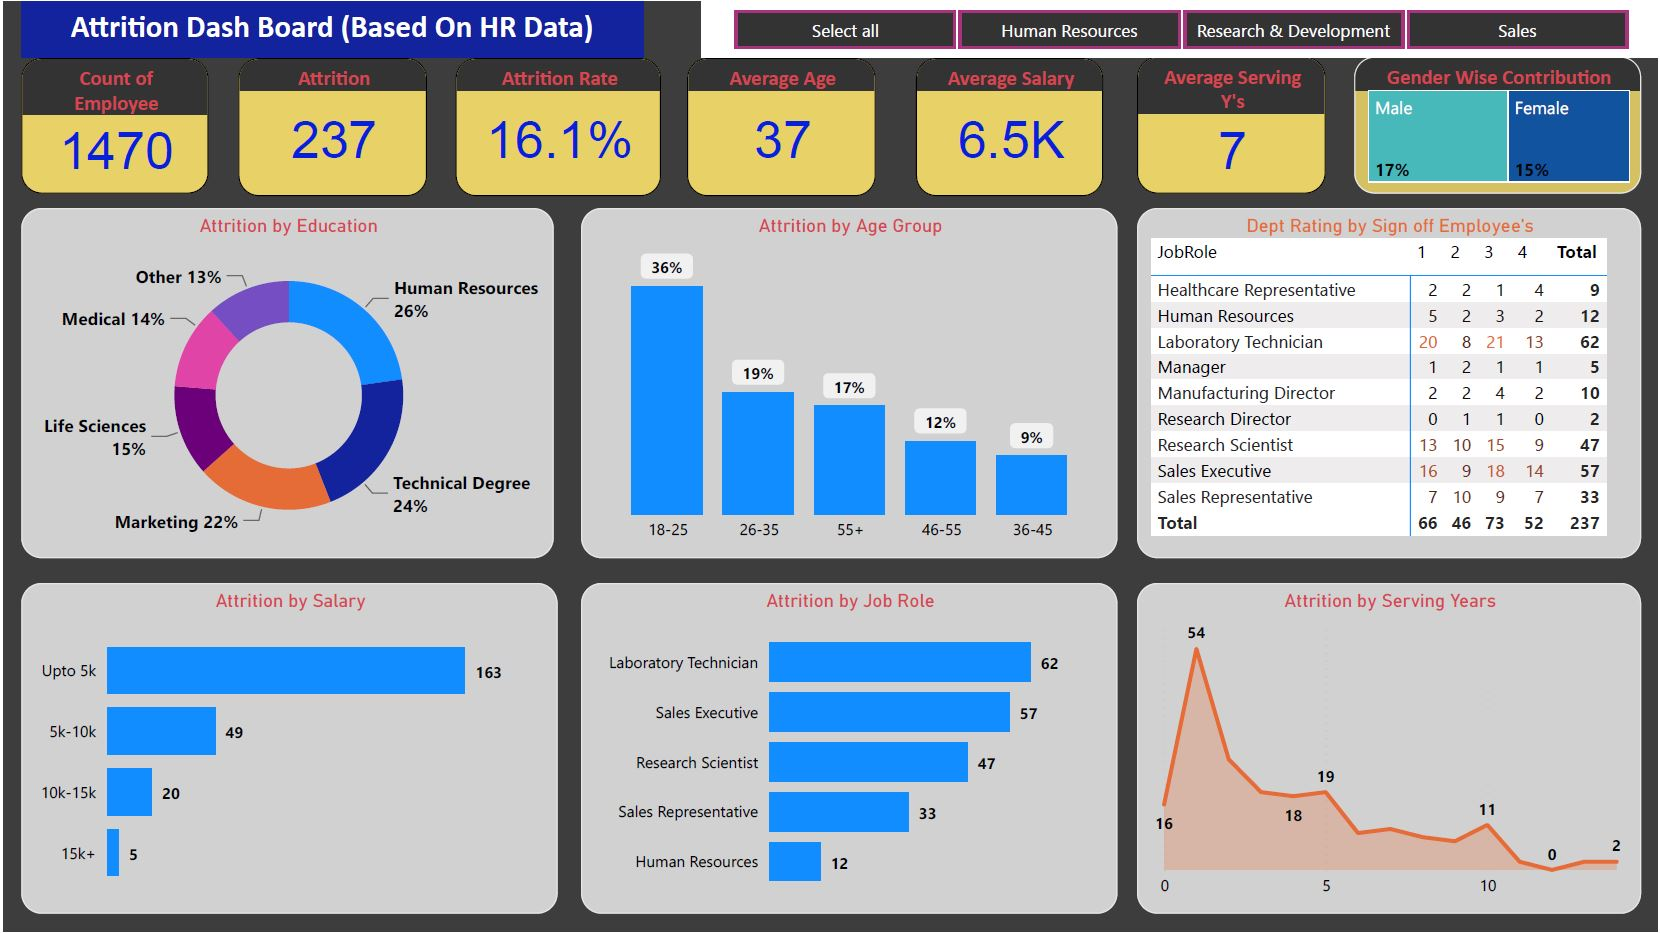

This screenshot's page, from the dashboard's own definition file:
{"tool":"powerbi","page":{"name":"Page 1","canvas":[1280,720],"ordinal":0},"visuals":[{"type":"card","title":"Count of Employee","fields":{"Values":["CountNonNull(HR_Analytics.EmpID)"]},"box":[13.7,43.9,145.3,105.6],"z":0},{"type":"card","title":"Attrition","fields":{"Values":["Sum(HR_Analytics.Attrition Count)"]},"box":[182.3,43.9,145.3,106.9],"z":1000},{"type":"card","title":"Attrition Rate","fields":{"Values":["HR_Analytics.Attritionrate"]},"box":[349.6,43.9,159,106.9],"z":2000},{"type":"card","title":"Average Age","fields":{"Values":["Avg(HR_Analytics.Age)"]},"box":[529.2,43.9,145.3,106.9],"z":3000},{"type":"card","title":"Average Salary","fields":{"Values":["Avg(HR_Analytics.MonthlyIncome)"]},"box":[706.1,43.9,145.3,106.9],"z":4000},{"type":"card","title":"Average Serving Y''s","fields":{"Values":["Avg(HR_Analytics.YearsAtCompany)"]},"box":[877.5,42.5,145.3,106.9],"z":5000},{"type":"donutChart","title":"Attrition by Education","fields":{"Category":["HR_Analytics.EducationField"],"Y":["HR_Analytics.Attritionrate"]},"box":[13.7,160.4,412.7,270.1],"z":6000},{"type":"lineClusteredColumnComboChart","title":"Attrition by Age Group","fields":{"Category":["HR_Analytics.AgeGroup"],"Y":["HR_Analytics.Attritionrate"]},"box":[447,160.4,415.4,270.1],"z":7000},{"type":"pivotTable","title":"Dept Rating by Sign off Employee''s","fields":{"Rows":["HR_Analytics.JobRole"],"Columns":["HR_Analytics.JobSatisfaction"],"Values":["Sum(HR_Analytics.Attrition Count)"]},"box":[877.5,160.4,389.4,270.1],"z":8000},{"type":"barChart","title":"Attrition by Salary","fields":{"Category":["HR_Analytics.SalarySlab"],"Y":["Sum(HR_Analytics.Attrition Count)"]},"box":[13.7,449.7,415.4,256.4],"z":9000},{"type":"barChart","title":"Attrition by Job Role","fields":{"Y":["Sum(HR_Analytics.Attrition Count)"],"Category":["HR_Analytics.JobRole"]},"box":[447,449.7,415.4,256.4],"z":10000},{"type":"areaChart","title":"Attrition by Serving Years","fields":{"Category":["HR_Analytics.YearsAtCompany"],"Y":["Sum(HR_Analytics.Attrition Count)"]},"box":[877.5,449.7,389.4,256.4],"z":11000},{"type":"treemap","title":"Gender Wise Contribution","fields":{"Group":["HR_Analytics.Gender"],"Values":["HR_Analytics.Attritionrate"]},"box":[1044.7,42.5,222.1,106.9],"z":12000},{"type":"slicer","fields":{"Values":["HR_Analytics.Department"]},"box":[540.2,0,740.4,43.9],"z":13000},{"type":"textbox","box":[13.7,0,481.2,43.9],"z":13001}]}

Visuals, with their boxes in screenshot pixels (x1, y1, x2, y2), scaled from the page's 1280x720 canvas onto the 1660x933 screenshot:
"Count of Employee" card: x1=18 y1=57 x2=206 y2=194
"Attrition" card: x1=236 y1=57 x2=425 y2=195
"Attrition Rate" card: x1=453 y1=57 x2=660 y2=195
"Average Age" card: x1=686 y1=57 x2=875 y2=195
"Average Salary" card: x1=916 y1=57 x2=1104 y2=195
"Average Serving Y''s" card: x1=1138 y1=55 x2=1326 y2=194
"Attrition by Education" donutChart: x1=18 y1=208 x2=553 y2=558
"Attrition by Age Group" lineClusteredColumnComboChart: x1=580 y1=208 x2=1118 y2=558
"Dept Rating by Sign off Employee''s" pivotTable: x1=1138 y1=208 x2=1643 y2=558
"Attrition by Salary" barChart: x1=18 y1=583 x2=556 y2=915
"Attrition by Job Role" barChart: x1=580 y1=583 x2=1118 y2=915
"Attrition by Serving Years" areaChart: x1=1138 y1=583 x2=1643 y2=915
"Gender Wise Contribution" treemap: x1=1355 y1=55 x2=1643 y2=194
slicer - HR_Analytics.Department: x1=701 y1=0 x2=1659 y2=57
textbox: x1=18 y1=0 x2=642 y2=57
